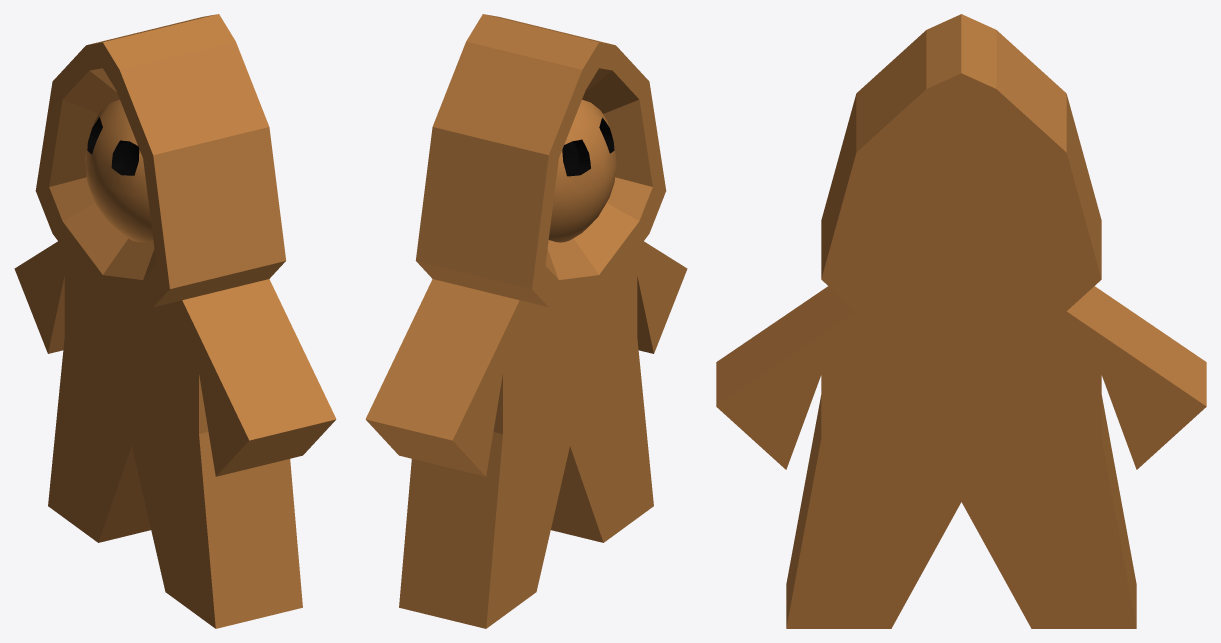
Rendered from Merchant.fbx.
The picture shows the model from 3 angles, left to right: view 1: azimuth 30°, elevation 25°; view 2: azimuth 150°, elevation 25°; view 3: azimuth 270°, elevation 25°; orthographic projection. The views are drawn at different scales.
Visible parts, largest first — view 1: Frame, Head; view 2: Frame, Head; view 3: Frame.
Part boxes in pixels (x1,y1,x2,y2): Frame: (14, 14, 336, 628); Head: (85, 99, 153, 242); Frame: (365, 14, 687, 628); Head: (548, 99, 616, 242); Frame: (716, 14, 1206, 628).
Bounding box in the file's own units: 42 × 175 × 140.
